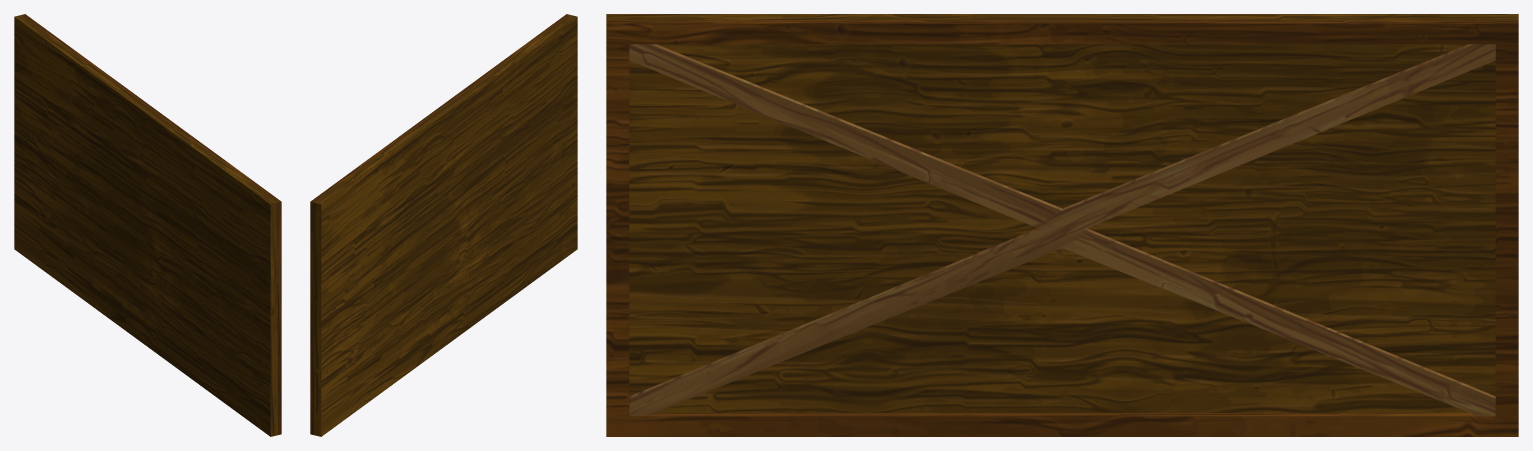
File: C_CrateSides_L01.fbx
3 renders of one model, left to right at view 1: azimuth 30°, elevation 25°; view 2: azimuth 150°, elevation 25°; view 3: azimuth 270°, elevation 25°, orthographic. The views are drawn at different scales.
Parts seen in each view (by area): view 1: CrateBack_Long, CrateEdge_Long; view 2: CrateBack_Long, CrateEdge_Long; view 3: CrateBack_Long, CrateEdge_Long, CrateCross_01_Long.
Boxes of the visible parts, <box> form: CrateBack_Long: <box>14,15,277,436</box>; CrateEdge_Long: <box>22,14,281,434</box>; CrateBack_Long: <box>314,15,577,436</box>; CrateEdge_Long: <box>310,14,569,434</box>; CrateBack_Long: <box>606,14,1518,412</box>; CrateEdge_Long: <box>606,20,1518,436</box>; CrateCross_01_Long: <box>629,44,1495,415</box>.
Bounding box in the file's own units: 0.15 × 3 × 6.
